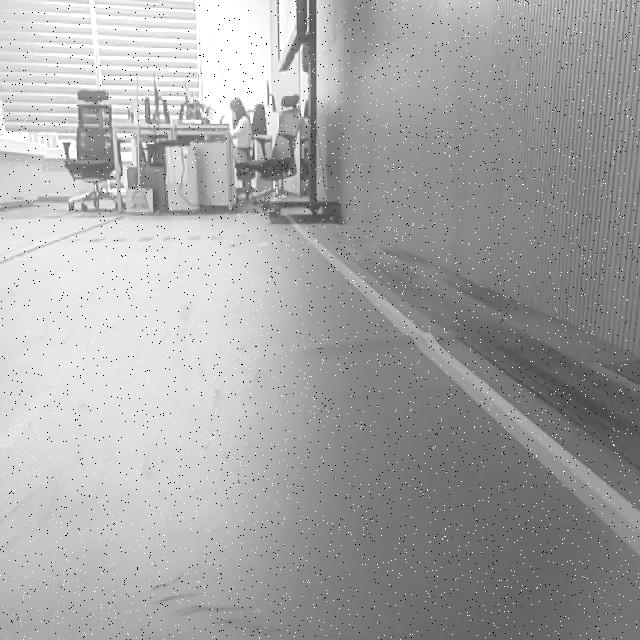left_lane: (0, 252, 168, 447)
right_lane: (295, 223, 637, 555)
